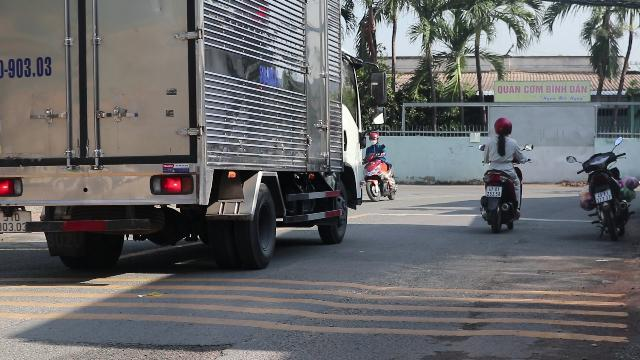helmet: (492, 116, 512, 136)
licenseplate: (486, 187, 502, 197)
motorcyclist: (476, 116, 526, 230)
